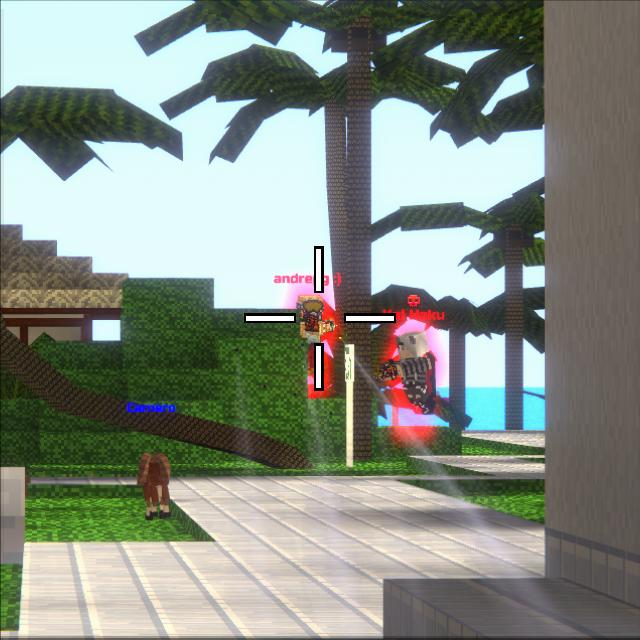Enemy: (385, 331, 436, 415), (296, 295, 336, 376)
